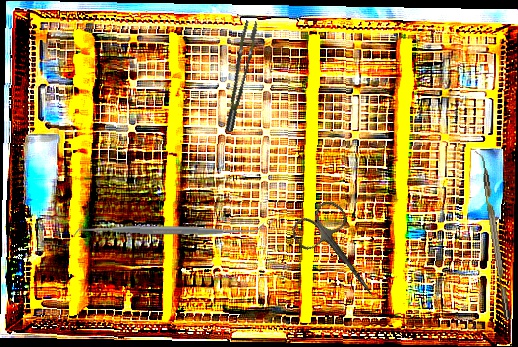Chopper: (472, 149, 511, 322)
Iris Scissors: (287, 195, 395, 315)
Spatula Surgical: (73, 218, 265, 242)
Tissue Forceps: (210, 18, 269, 133)
